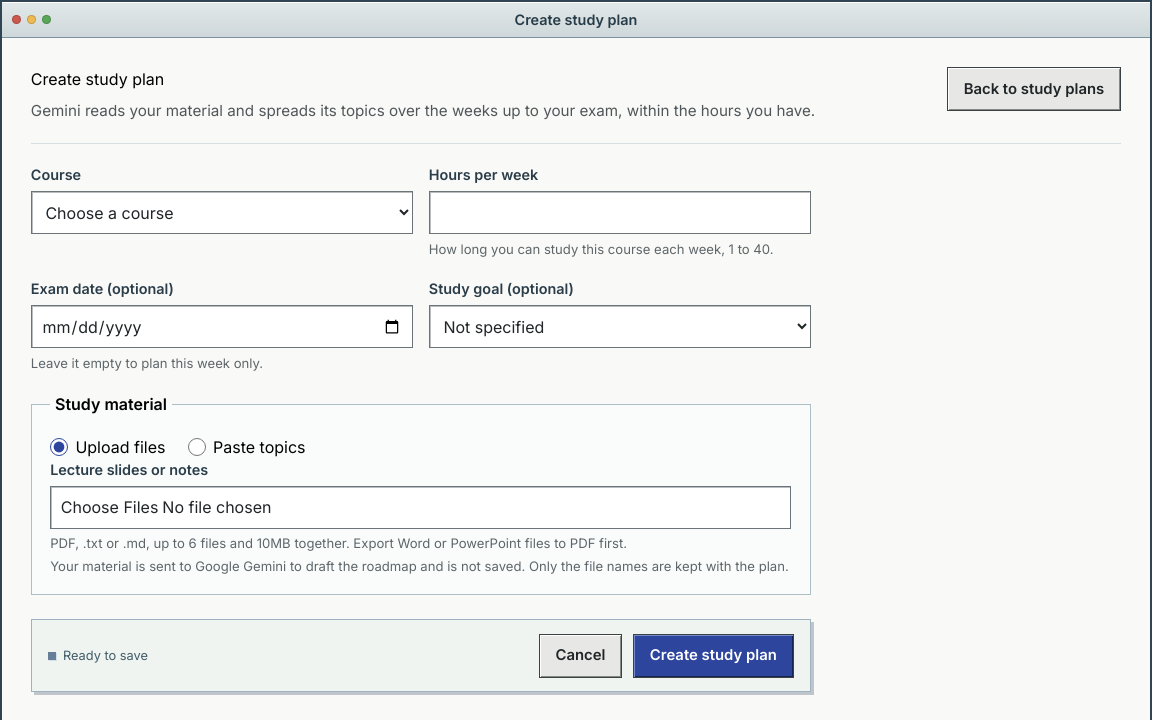
it: creating a study plan › shows what is missing and sends nothing
This screenshot has width=1152, height=720.
Click the button "Create study plan": point(713, 656) [633, 634, 794, 678]
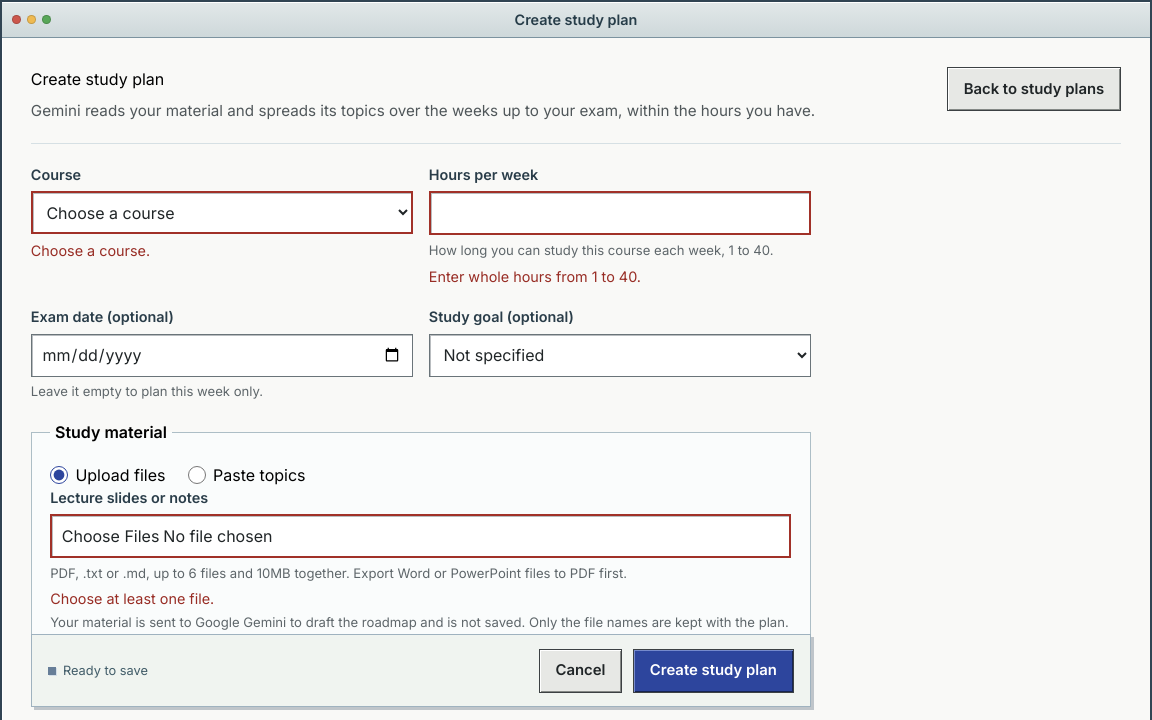
Now the text "Choose a course." is shown, box [31, 242, 150, 259]
Now the text "Choose at least one file." is shown, box [50, 590, 214, 607]
